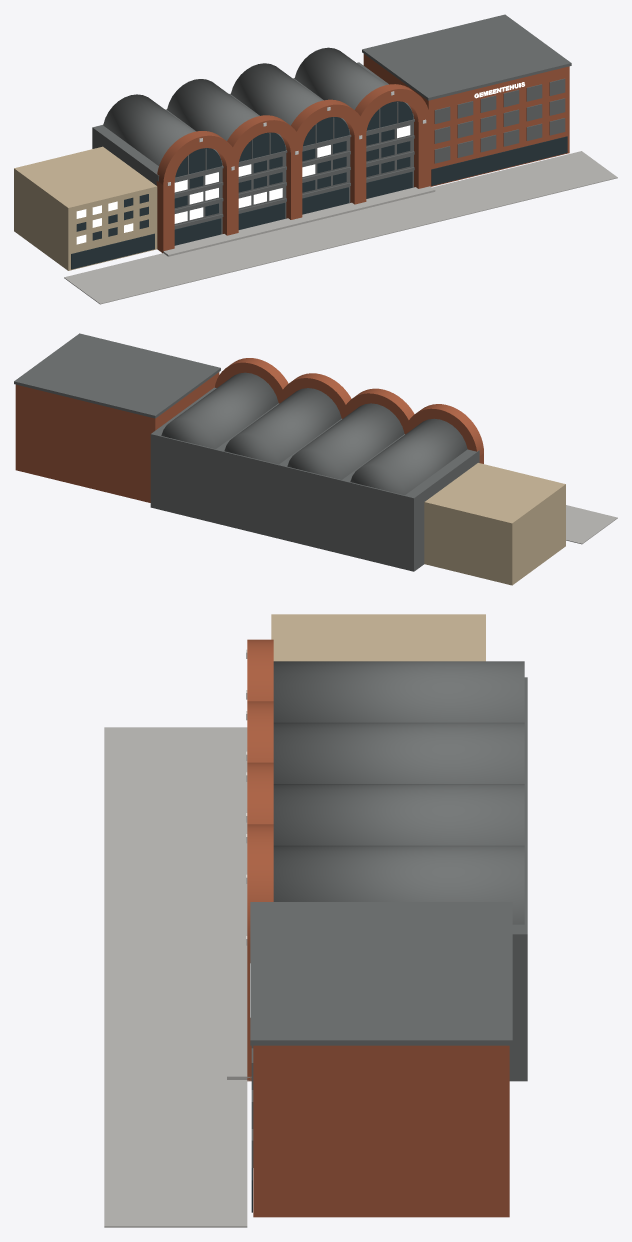
Rendered from lm_gemeentehuis.glb.
3 renders of one model, top to bottom at view 1: azimuth 30°, elevation 25°; view 2: azimuth 150°, elevation 25°; view 3: azimuth 270°, elevation 25°, orthographic. The views are drawn at different scales.
Parts seen in each view (by area): view 1: square, west, east_cornice, east, body, arch0, vault0, arch3, vault2, vault3, vault1, arch2 (+17 smaller); view 2: body, west, east, east_cornice, vault1, vault2, vault3, vault0, arch0, arch3, square, arch1 (+1 smaller); view 3: square, east, east_cornice, vault0, vault2, vault1, vault3, west, plinth, body, arch3, arch0 (+2 smaller).
Part boxes in pixels (x1,y1,x2,y2): square: (64,151,617,304); west: (14,146,157,270); east_cornice: (362,14,571,100); east: (363,54,569,186); body: (92,62,413,243); arch0: (156,131,238,253); vault0: (103,94,220,165); arch3: (354,84,429,203); vault2: (231,63,348,127); vault3: (294,47,411,110); vault1: (167,79,284,143); arch2: (291,99,366,219); body: (150,387,479,571); west: (424,463,565,585); east: (15,372,219,502); east_cornice: (14,333,220,418); vault1: (287,403,404,479); vault2: (224,388,341,464); vault3: (161,372,278,448); vault0: (350,418,467,495); arch0: (404,404,483,463); arch3: (214,358,288,403); square: (566,505,617,544); arch1: (343,388,414,434); square: (104,727,247,1227); east: (253,1045,509,1217); east_cornice: (250,902,512,1045); vault0: (273,661,524,722); vault2: (273,784,524,845); vault1: (273,722,524,783); vault3: (273,845,524,924); west: (271,614,485,661); plinth: (227,819,251,1080); body: (509,677,527,1081); arch3: (247,824,273,1081); arch0: (247,639,273,701).
Bounding box in the file's own units: 99 × 19.71 × 35.5.
